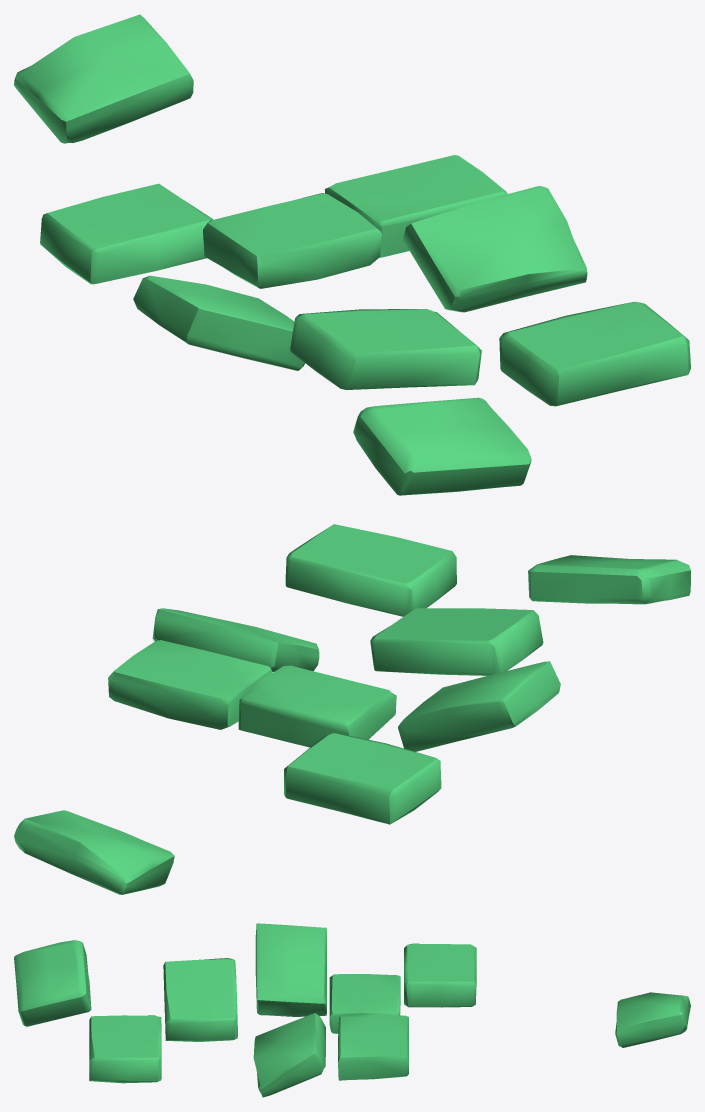
File: dalle_ground_path02.fbx
The picture shows the model from 3 angles, top to bottom: view 1: azimuth 30°, elevation 25°; view 2: azimuth 150°, elevation 25°; view 3: azimuth 270°, elevation 25°; orthographic projection. The views are drawn at different scales.
Visible parts, largest first — view 1: dalle_ground_path02; view 2: dalle_ground_path02; view 3: dalle_ground_path02.
Part boxes in pixels (box(x1,y1,x2,y2)): dalle_ground_path02: box(14, 14, 690, 495); dalle_ground_path02: box(14, 524, 690, 894); dalle_ground_path02: box(14, 923, 690, 1097).
Bounding box in the file's own units: 2.77 × 0.5909 × 6.06.
